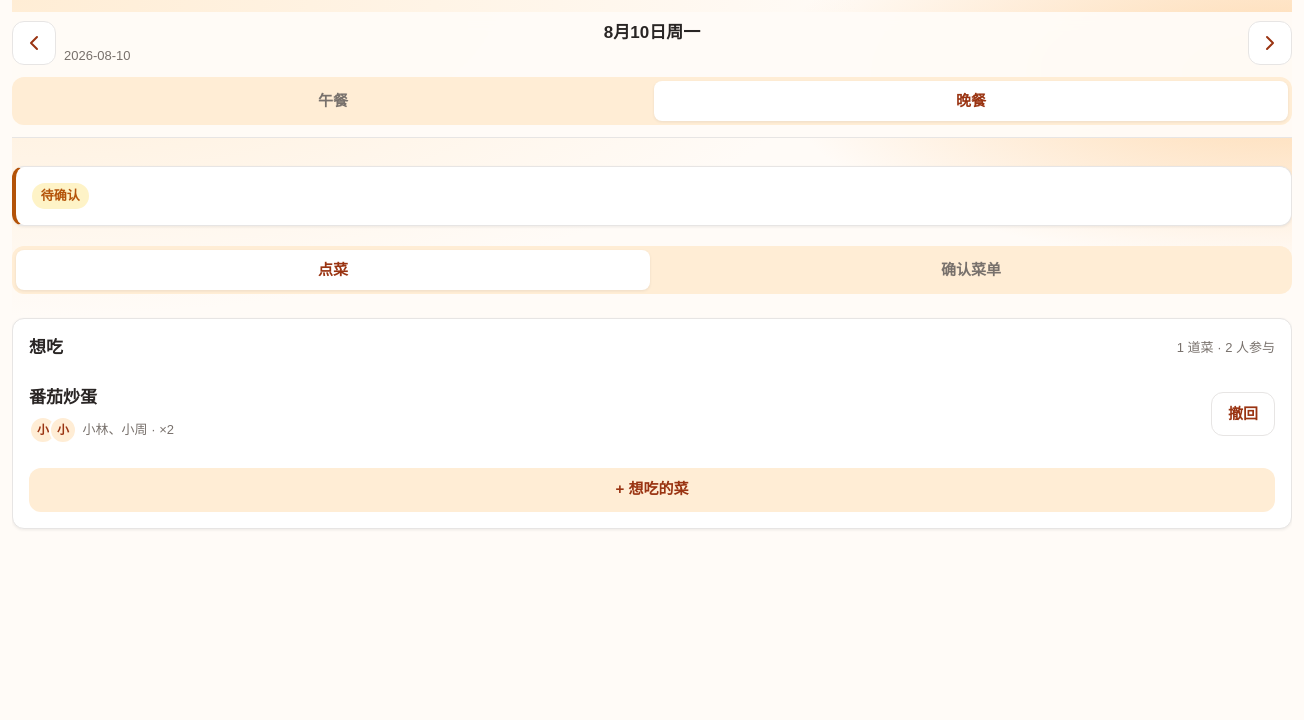
TodayPage › shows conflict banner and refreshes after version conflict
Expected: the text named "餐次状态" is shown, [32,183,89,209]
Click the button "确认菜单" at (971, 270), box [654,250,1288,290]
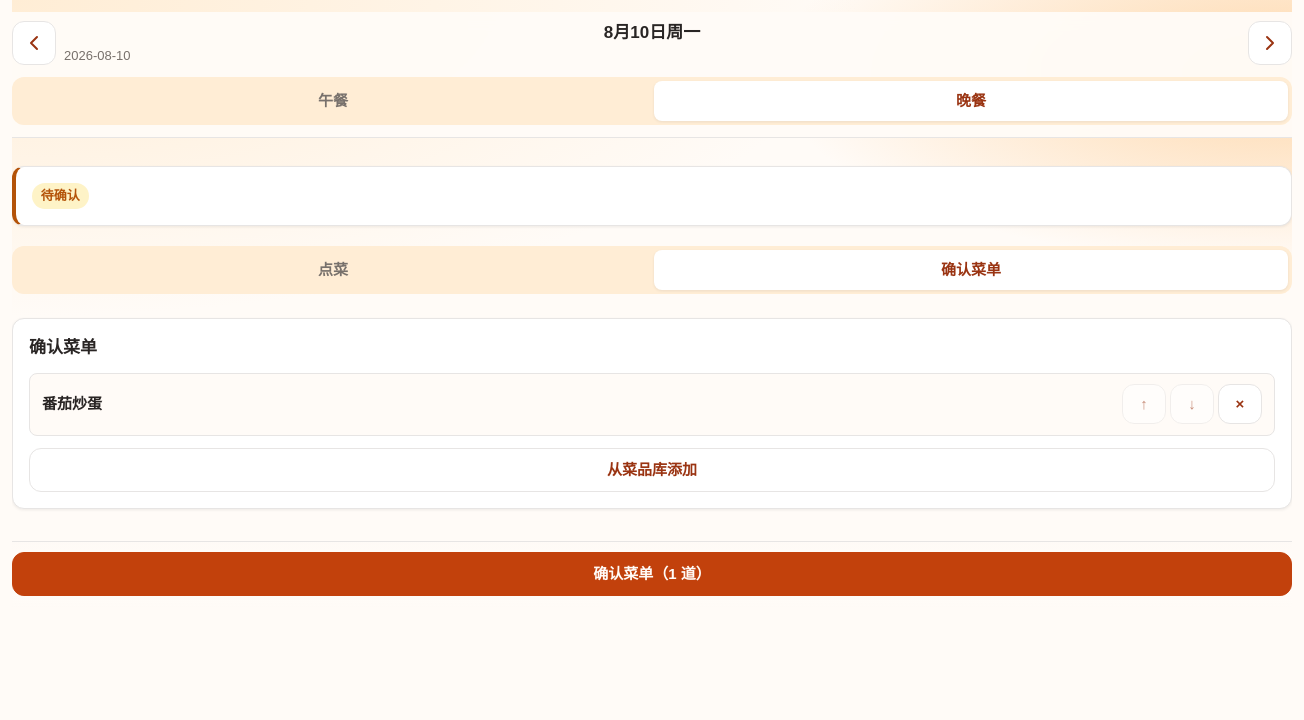
Click the button with test id "confirm-menu" at (652, 574), box [12,552,1292,596]
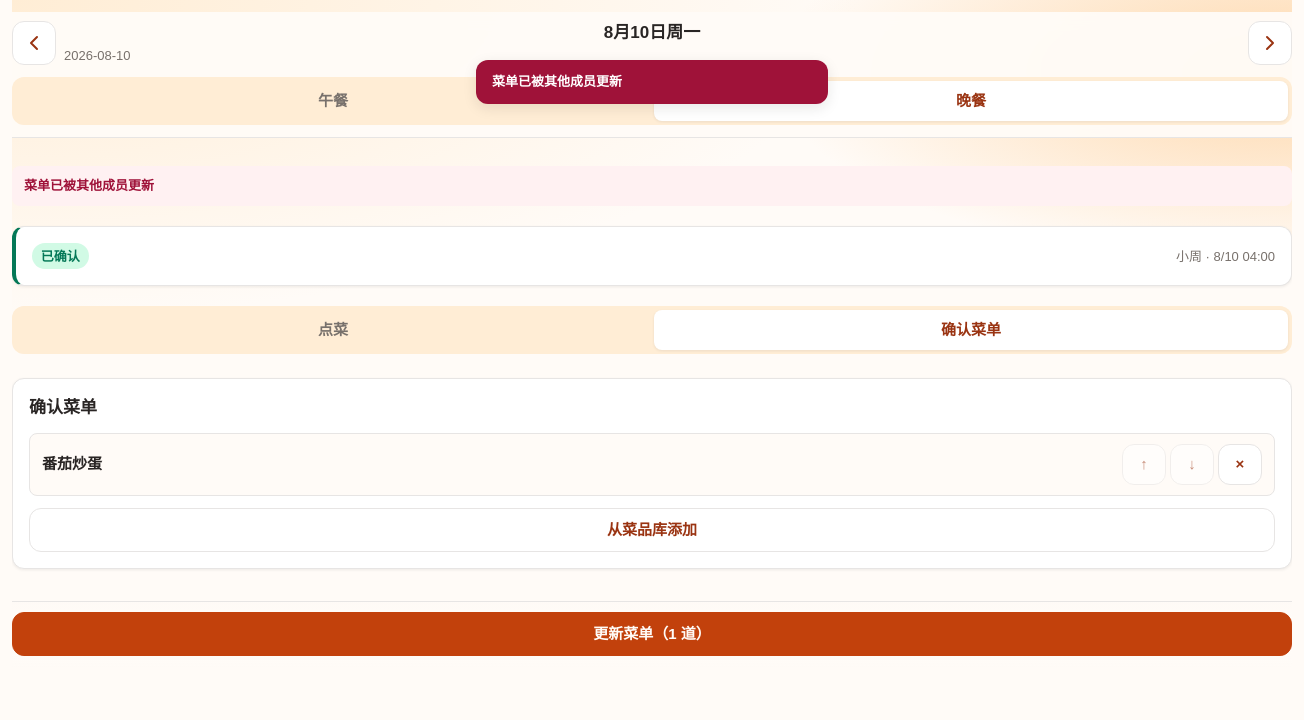
Result: the message "菜单已被其他成员更新" below "2026-08-10" is shown at [12,166,1292,206]
Result: the text named "餐次状态" reads "已确认" at [41,249,80,264]
